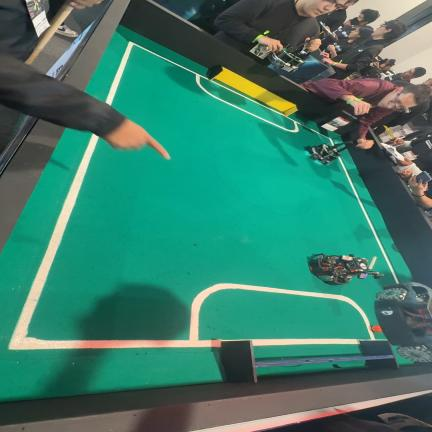cancha: (0, 26, 410, 401), (258, 362, 362, 381), (396, 355, 412, 369)
limites: (8, 135, 375, 350), (106, 42, 334, 144), (339, 160, 399, 283), (206, 79, 284, 115), (252, 338, 358, 346)
pelota: (372, 326, 382, 332)
porteria: (219, 340, 398, 383), (207, 65, 297, 116)
robot: (374, 282, 432, 363), (308, 254, 383, 286), (268, 42, 310, 72), (305, 142, 354, 164)
